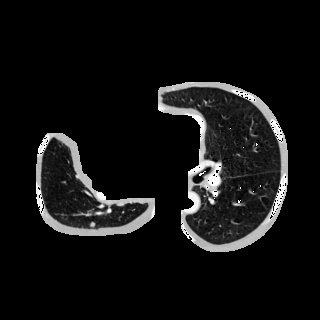PN: (89, 221, 95, 227)
